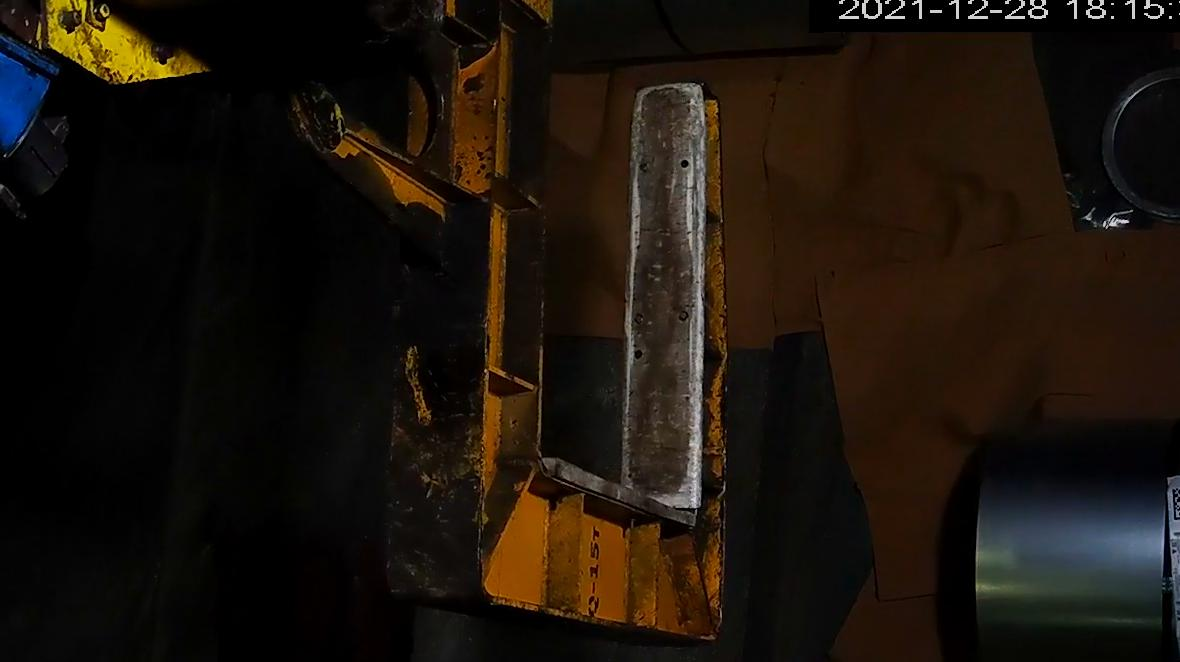data matrix: (1171, 485, 1180, 524)
